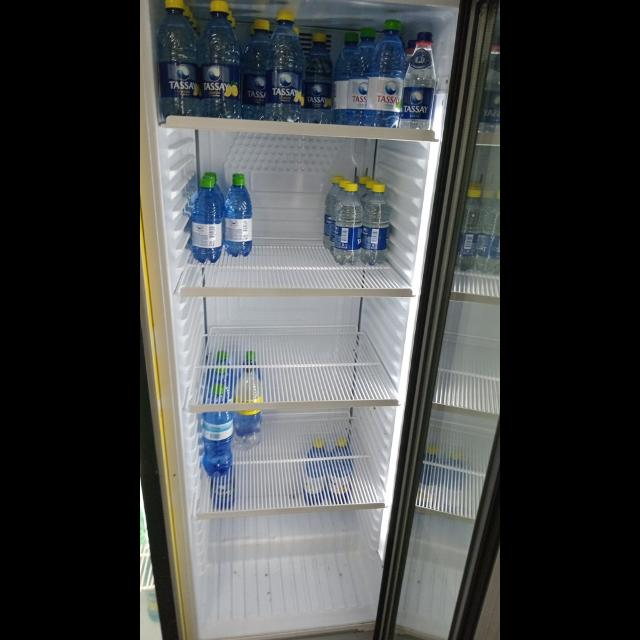Cooling-Display: (140, 1, 496, 640)
